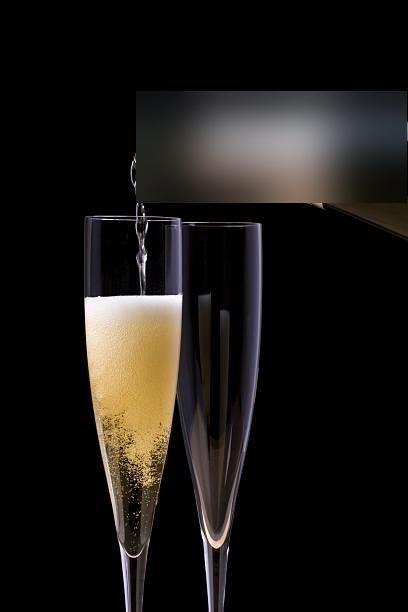glass-wine: (82, 212, 192, 612), (172, 215, 265, 612)
